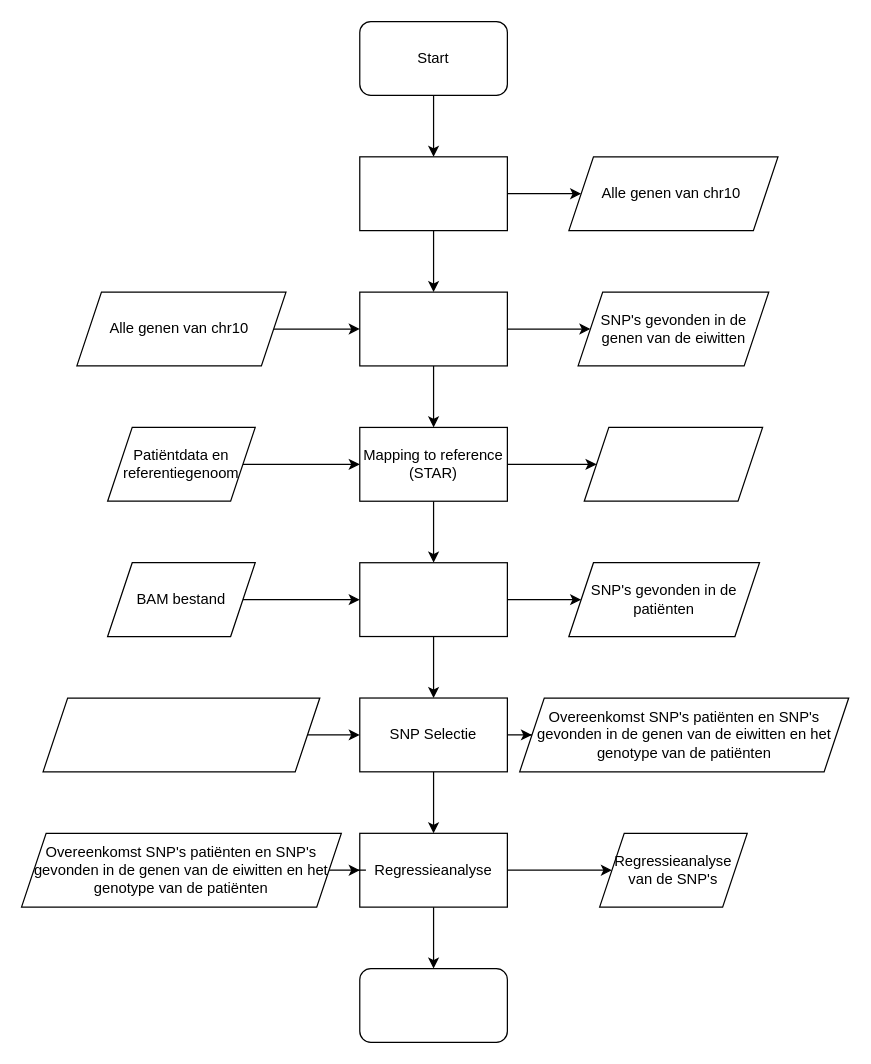
The diagram is 871 pixels wide and 1064 high, and some of its shapes have lost their labels. Each missing label, with the box of its shape:
BAM bestand (patiënt reads gemapt tegen referentiegenoom: (583, 426, 763, 501)
Eind: (359, 967, 507, 1042)
GATK: (359, 561, 507, 637)
SNP's gevonden in de patiënten en SNP's gevonden in de genen van de eiwitten: (42, 697, 320, 772)
Zoeken naar alle genen van chr10: (359, 156, 507, 231)
Zoeken naar SNP's: (359, 291, 507, 366)
